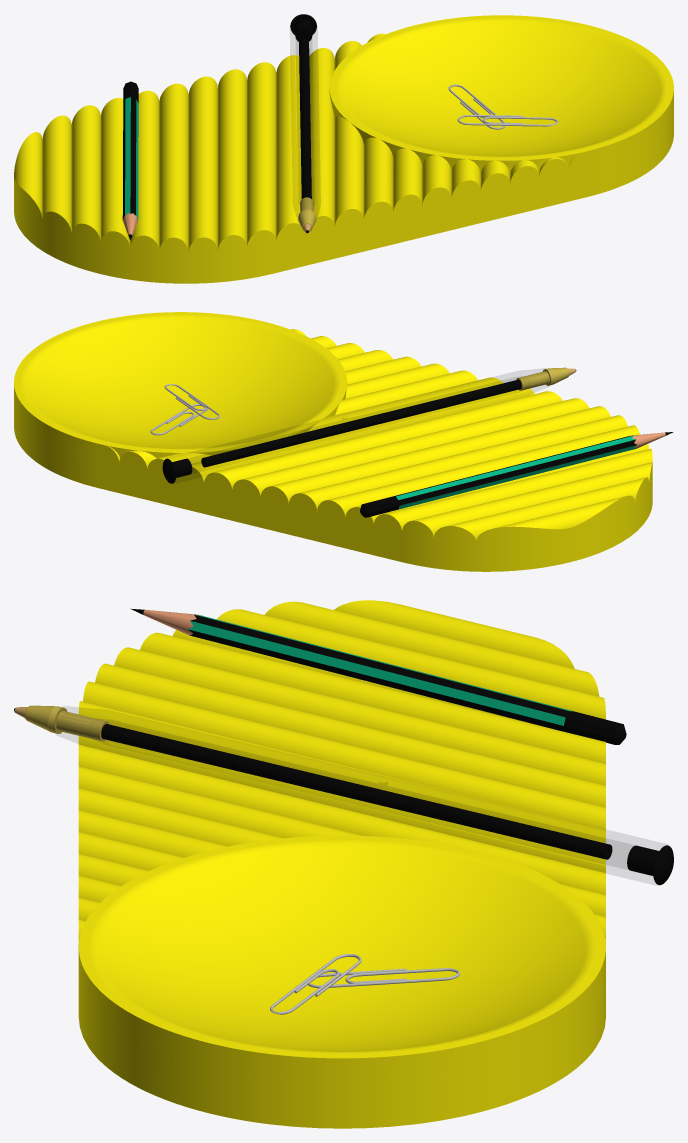
File: desktop-holderv2.glb
3 renders of one model, top to bottom at view 1: azimuth 30°, elevation 25°; view 2: azimuth 150°, elevation 25°; view 3: azimuth 270°, elevation 25°, orthographic. The views are drawn at different scales.
Parts seen in each view (by area): view 1: Layer 01(82E9DD9D-4810-4E15-AEFA-4EF38ECAD3F8), Layer 01(99365ED6-9178-4288-B261-AA62FB813224), Layer 01(AECDFBC5-2619-4390-AE46-7904556AE269), Layer 01(301361C4-A70A-4428-92BD-9941073B4A62), Layer 01(F39EE62E-6479-427E-9074-68090E0D0D7F), Layer 01(5AEE0042-26A0-48C8-B6CE-7235036FF216), Layer 01(13F08178-CCE3-4FCE-8C5E-0C2F4BAB3737), Layer 01(C2DAD2E6-1B36-4D70-8446-F07118A44D71), Layer 01(0A911B65-B31A-44AA-9FAF-EA0C289C661D), Layer 01(BA5670FE-768B-4CAB-AF5D-13814762D454), Layer 01(E79864DA-9D82-48FC-9010-6039C6B421C8), Layer 01(6F9DB1B0-01AD-42B4-915D-072762022F07) (+17 smaller); view 2: Layer 01(82E9DD9D-4810-4E15-AEFA-4EF38ECAD3F8), Layer 01(91B7106F-AA36-47E0-9401-C9533B0C6C29), Layer 01(AECDFBC5-2619-4390-AE46-7904556AE269), Layer 01(C2DAD2E6-1B36-4D70-8446-F07118A44D71), Layer 01(301361C4-A70A-4428-92BD-9941073B4A62), Layer 01(5AEE0042-26A0-48C8-B6CE-7235036FF216), Cylinder (×2), Layer 01(F39EE62E-6479-427E-9074-68090E0D0D7F), Layer 01(408C1198-B68D-49C2-B447-FA3552D2C34B), Layer 01(13F08178-CCE3-4FCE-8C5E-0C2F4BAB3737), Part35, Layer 01(BA5670FE-768B-4CAB-AF5D-13814762D454) (+17 smaller); view 3: Layer 01(82E9DD9D-4810-4E15-AEFA-4EF38ECAD3F8), Layer 01(428B9388-7213-4E7F-A5F4-66D92228BA60), Layer 01(5AEE0042-26A0-48C8-B6CE-7235036FF216), Layer 01(AC646B60-8E3A-415C-A60D-B6E02DA03C97), Layer 01(F39EE62E-6479-427E-9074-68090E0D0D7F), Cylinder (×2), Layer 01(13F08178-CCE3-4FCE-8C5E-0C2F4BAB3737), Layer 01(6F9DB1B0-01AD-42B4-915D-072762022F07), Layer 01(0A911B65-B31A-44AA-9FAF-EA0C289C661D), Part35, Layer 01(301361C4-A70A-4428-92BD-9941073B4A62), Layer 01(E79864DA-9D82-48FC-9010-6039C6B421C8) (+16 smaller).
Boxes of the visible parts, x1,y1,x2,y2 form: Layer 01(82E9DD9D-4810-4E15-AEFA-4EF38ECAD3F8): [343, 22, 660, 156]; Layer 01(99365ED6-9178-4288-B261-AA62FB813224): [272, 151, 587, 273]; Layer 01(AECDFBC5-2619-4390-AE46-7904556AE269): [14, 178, 272, 283]; Layer 01(301361C4-A70A-4428-92BD-9941073B4A62): [247, 62, 276, 246]; Layer 01(F39EE62E-6479-427E-9074-68090E0D0D7F): [188, 76, 217, 251]; Layer 01(5AEE0042-26A0-48C8-B6CE-7235036FF216): [218, 69, 246, 248]; Layer 01(13F08178-CCE3-4FCE-8C5E-0C2F4BAB3737): [159, 83, 188, 251]; Layer 01(C2DAD2E6-1B36-4D70-8446-F07118A44D71): [276, 55, 305, 239]; Layer 01(0A911B65-B31A-44AA-9FAF-EA0C289C661D): [309, 48, 334, 224]; Layer 01(BA5670FE-768B-4CAB-AF5D-13814762D454): [71, 105, 100, 241]; Layer 01(E79864DA-9D82-48FC-9010-6039C6B421C8): [329, 15, 673, 160]; Layer 01(6F9DB1B0-01AD-42B4-915D-072762022F07): [130, 90, 159, 249]; Layer 01(82E9DD9D-4810-4E15-AEFA-4EF38ECAD3F8): [27, 318, 334, 448]; Layer 01(91B7106F-AA36-47E0-9401-C9533B0C6C29): [97, 445, 402, 562]; Layer 01(AECDFBC5-2619-4390-AE46-7904556AE269): [403, 462, 652, 571]; Layer 01(C2DAD2E6-1B36-4D70-8446-F07118A44D71): [214, 391, 562, 488]; Layer 01(301361C4-A70A-4428-92BD-9941073B4A62): [243, 398, 589, 496]; Layer 01(5AEE0042-26A0-48C8-B6CE-7235036FF216): [271, 406, 610, 503]; Cylinder (×2): [360, 432, 673, 517]; Layer 01(F39EE62E-6479-427E-9074-68090E0D0D7F): [299, 415, 627, 511]; Layer 01(408C1198-B68D-49C2-B447-FA3552D2C34B): [384, 448, 652, 530]; Layer 01(13F08178-CCE3-4FCE-8C5E-0C2F4BAB3737): [327, 425, 639, 517]; Part35: [201, 379, 521, 467]; Layer 01(BA5670FE-768B-4CAB-AF5D-13814762D454): [412, 462, 652, 537]; Layer 01(82E9DD9D-4810-4E15-AEFA-4EF38ECAD3F8): [99, 846, 585, 1051]; Layer 01(428B9388-7213-4E7F-A5F4-66D92228BA60): [78, 972, 605, 1128]; Layer 01(5AEE0042-26A0-48C8-B6CE-7235036FF216): [83, 681, 605, 829]; Layer 01(AC646B60-8E3A-415C-A60D-B6E02DA03C97): [78, 944, 559, 1081]; Layer 01(F39EE62E-6479-427E-9074-68090E0D0D7F): [95, 663, 605, 807]; Cylinder (×2): [130, 608, 626, 744]; Layer 01(13F08178-CCE3-4FCE-8C5E-0C2F4BAB3737): [114, 647, 605, 785]; Layer 01(6F9DB1B0-01AD-42B4-915D-072762022F07): [140, 632, 605, 763]; Layer 01(0A911B65-B31A-44AA-9FAF-EA0C289C661D): [78, 744, 605, 894]; Part35: [101, 724, 612, 859]; Layer 01(301361C4-A70A-4428-92BD-9941073B4A62): [78, 701, 605, 843]; Layer 01(E79864DA-9D82-48FC-9010-6039C6B421C8): [79, 835, 605, 1058].
Bounding box in the file's own units: 0.21 × 0.0215 × 0.1277.
